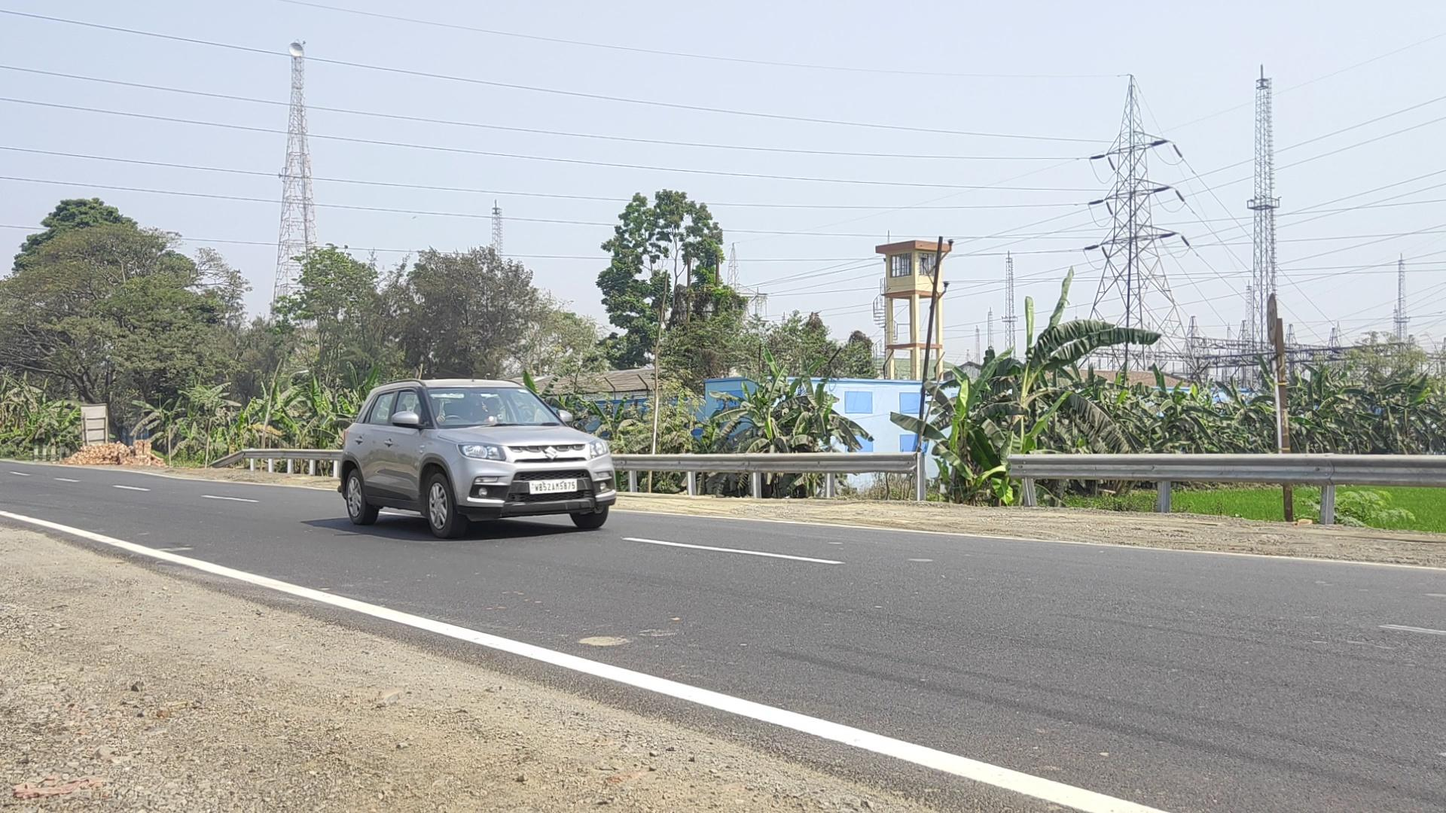car: (337, 378, 615, 538)
